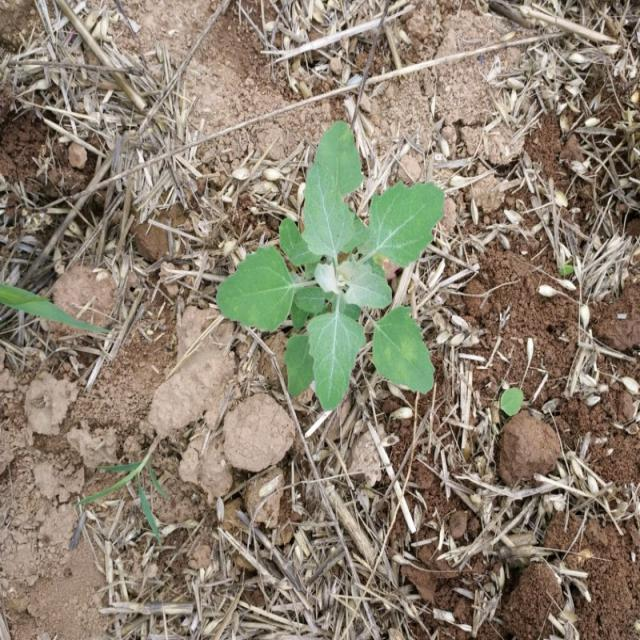ca: (216, 123, 442, 411)
